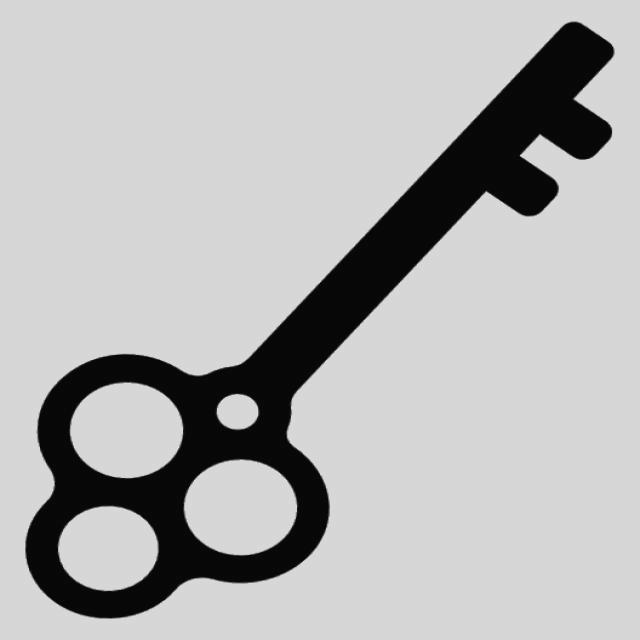key: (12, 16, 630, 634)
